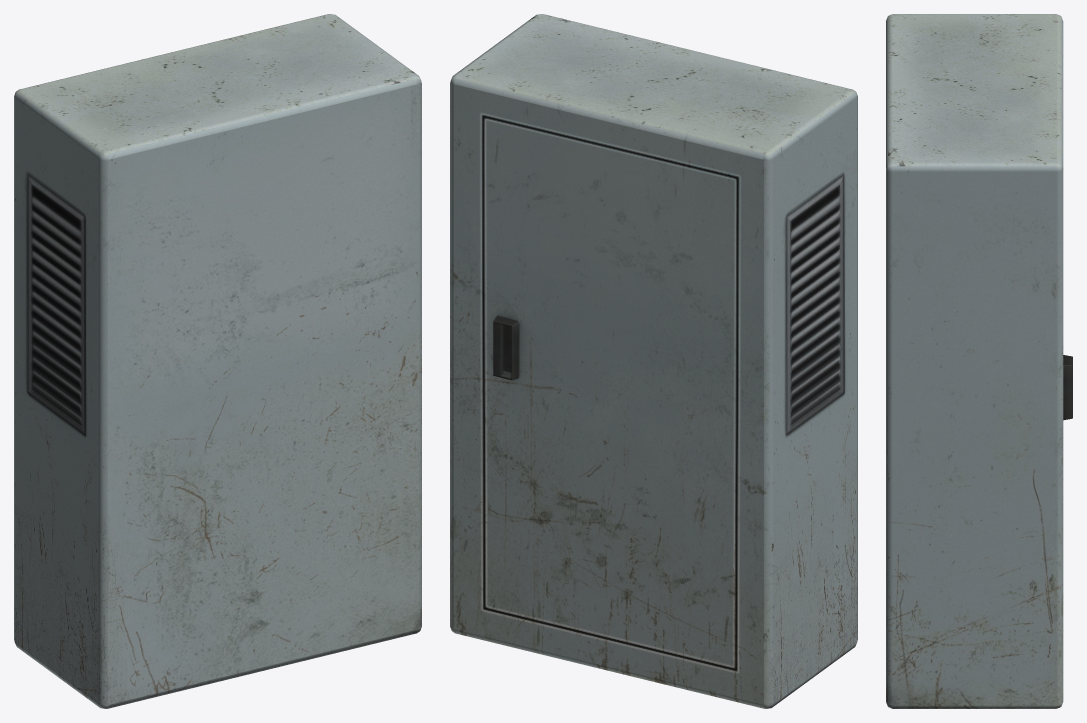
The model's file is Electricity_Meter.glb.
3 views of the same model, side by side, from view 1: azimuth 30°, elevation 25°; view 2: azimuth 150°, elevation 25°; view 3: azimuth 270°, elevation 25° (orthographic). The views are drawn at different scales.
Parts seen in each view (by area): view 1: Electricity_Meter__LOD3; view 2: Electricity_Meter__LOD3; view 3: Electricity_Meter__LOD3.
Boxes of the visible parts, <box> form: Electricity_Meter__LOD3: <box>14,14,421,708</box>; Electricity_Meter__LOD3: <box>450,14,857,708</box>; Electricity_Meter__LOD3: <box>886,14,1072,708</box>.
Size of the model in its own units: 1.4 by 2.31 by 0.716.
1 material, 1 textured.
